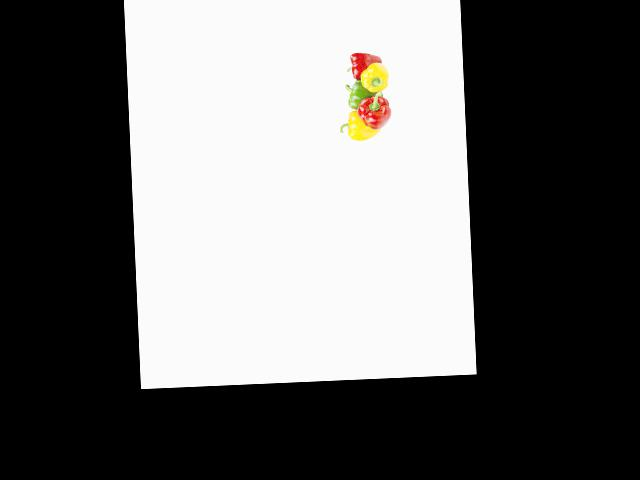bell_pepper: (345, 50, 378, 80)
